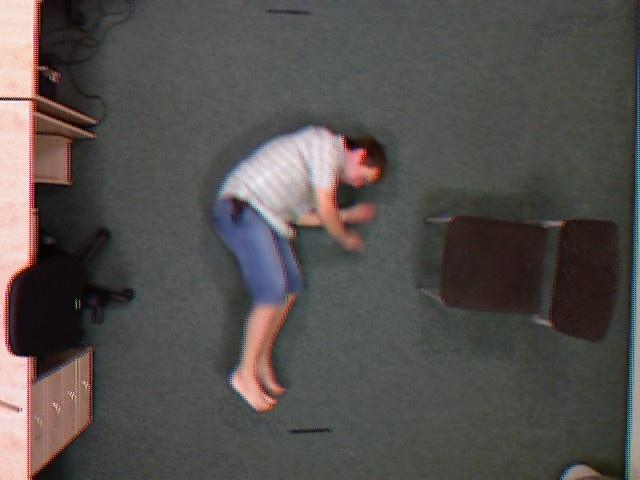fall: (204, 119, 398, 419)
